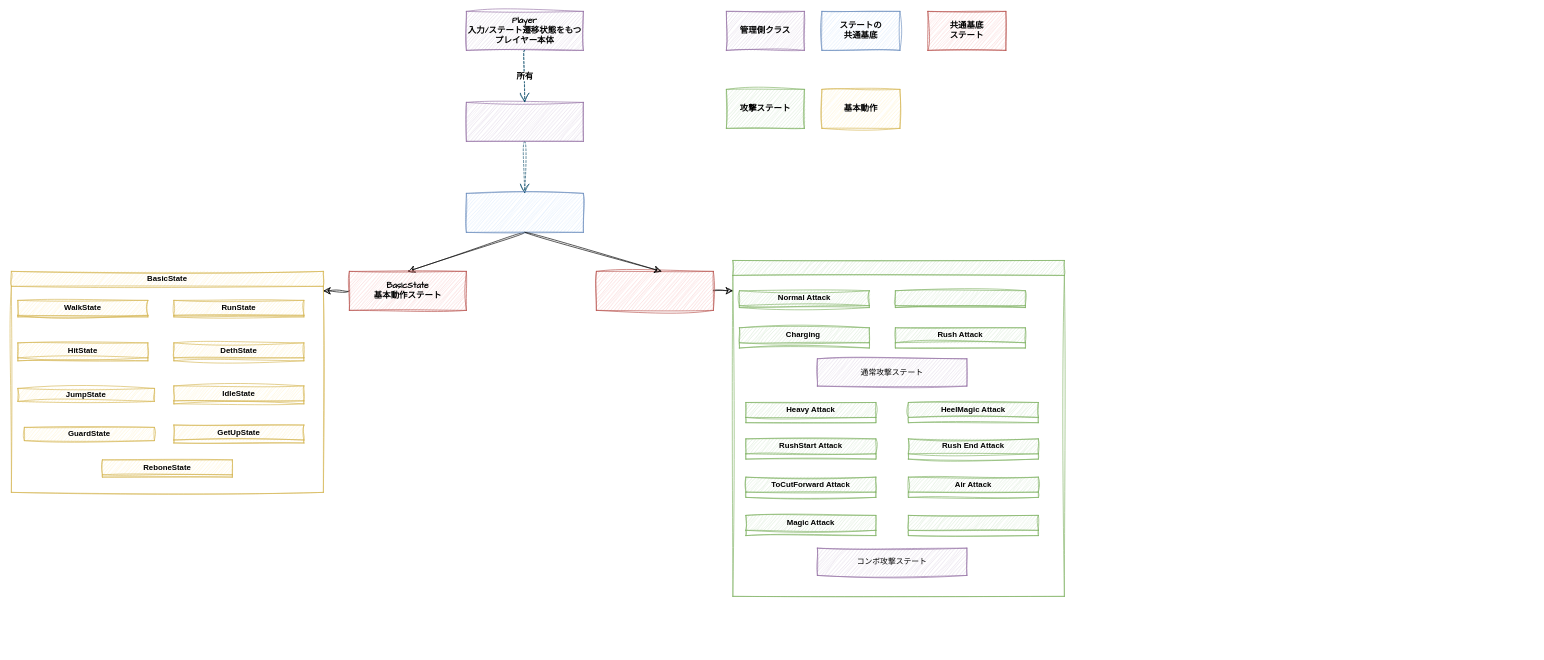
Image size: 1544x660. Some labels were removed from this diagram. The centre of each missing label's shape, as x and y in pixels:
"AttackBaseState 攻撃ステートの基底" goes at pixel 654 290.
"Charge Attack" goes at pixel 960 299.
"IState<Actor>" goes at pixel 524 212.
"PushUp Attack" goes at pixel 973 525.
"StateMachine<Actor>" goes at pixel 524 121.
